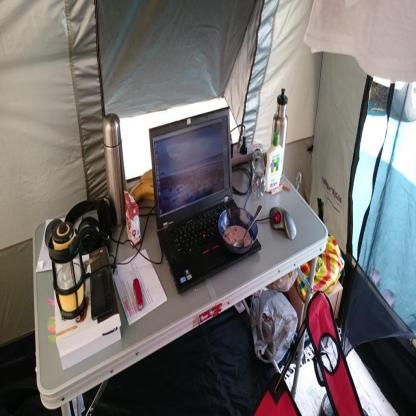board: (145, 107, 246, 296), (265, 130, 283, 192), (253, 142, 265, 198)
